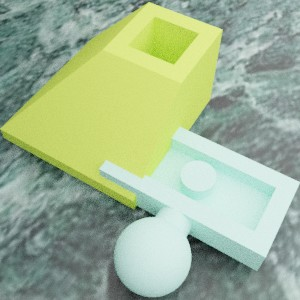lego: (0, 2, 222, 209), (99, 110, 299, 297)
